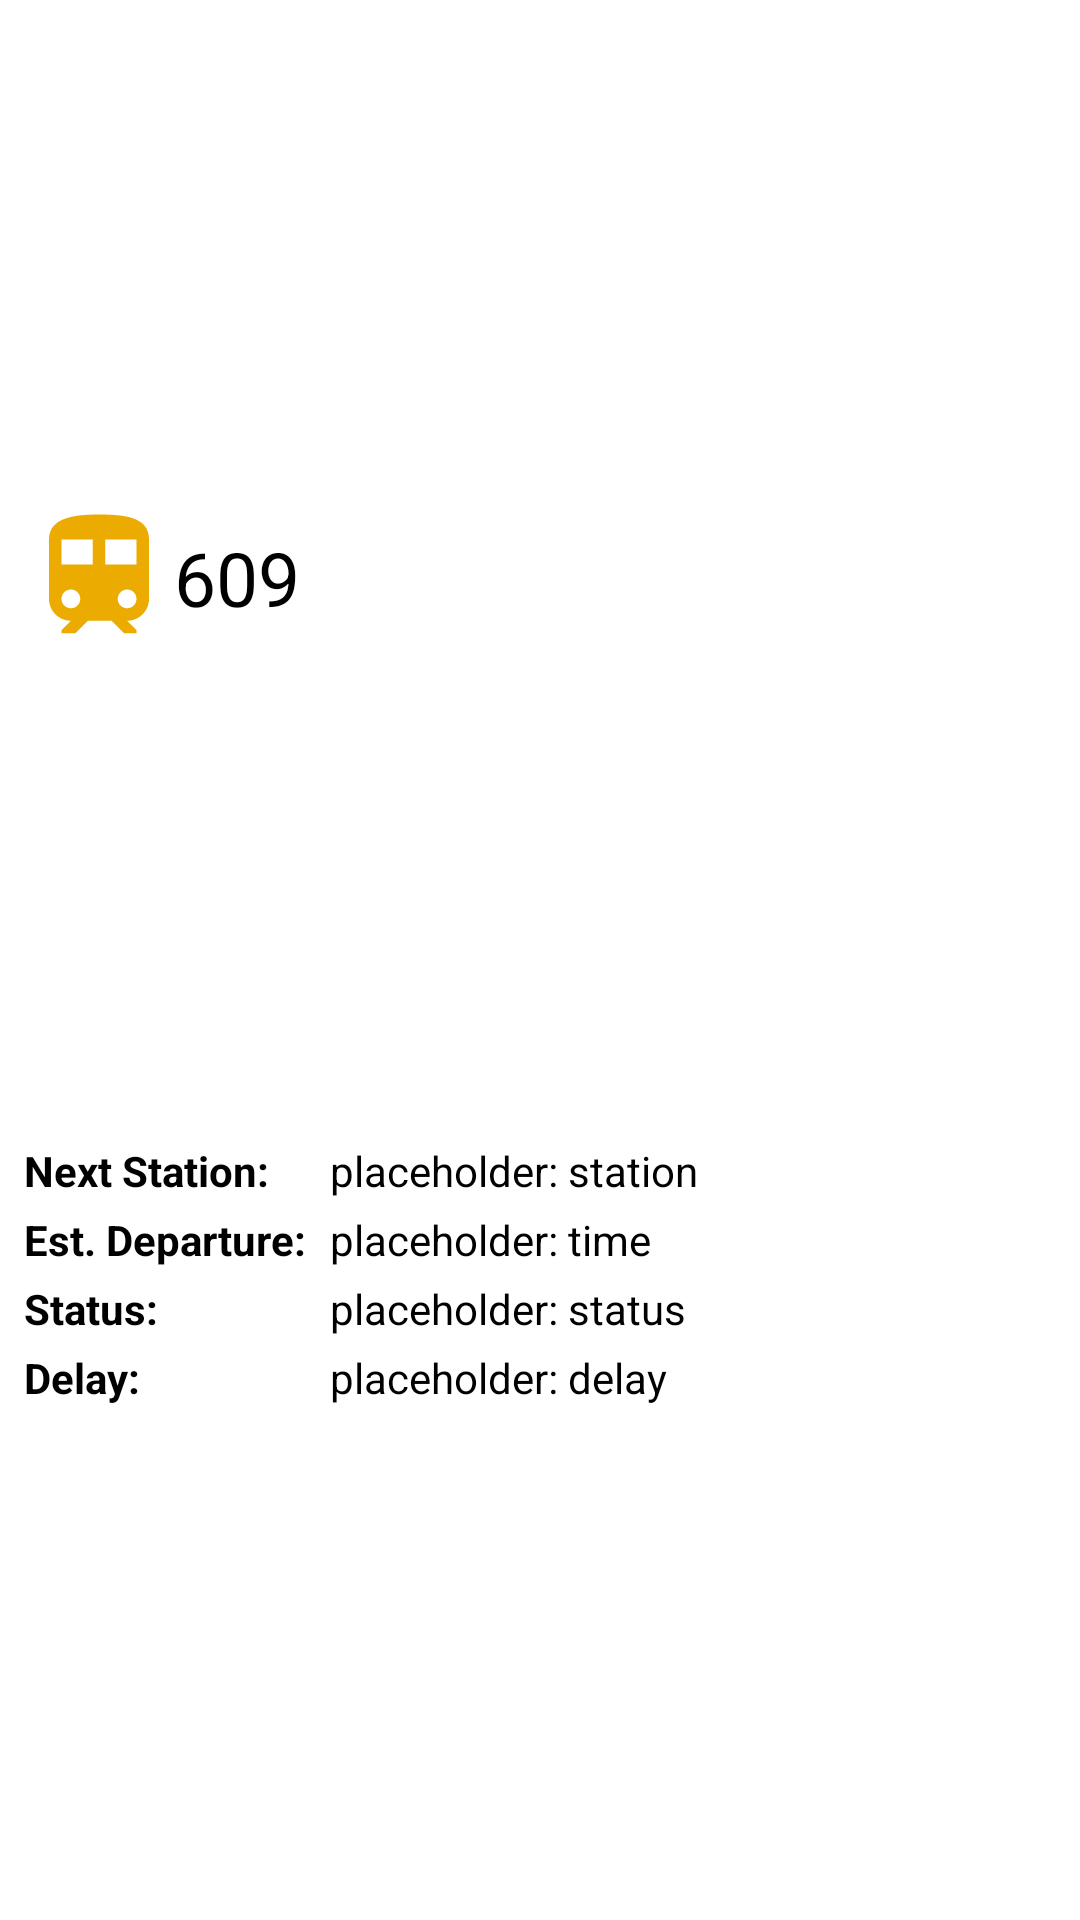

Icons on this 1080×1920 Android screen, each with its box as (x1, y1, x2, y2):
Train Number: (49, 514, 149, 634)
